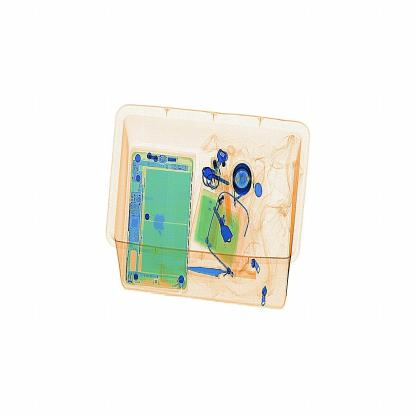wrench: (183, 258, 272, 293)
